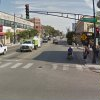crosswalk: (0, 61, 89, 72)
